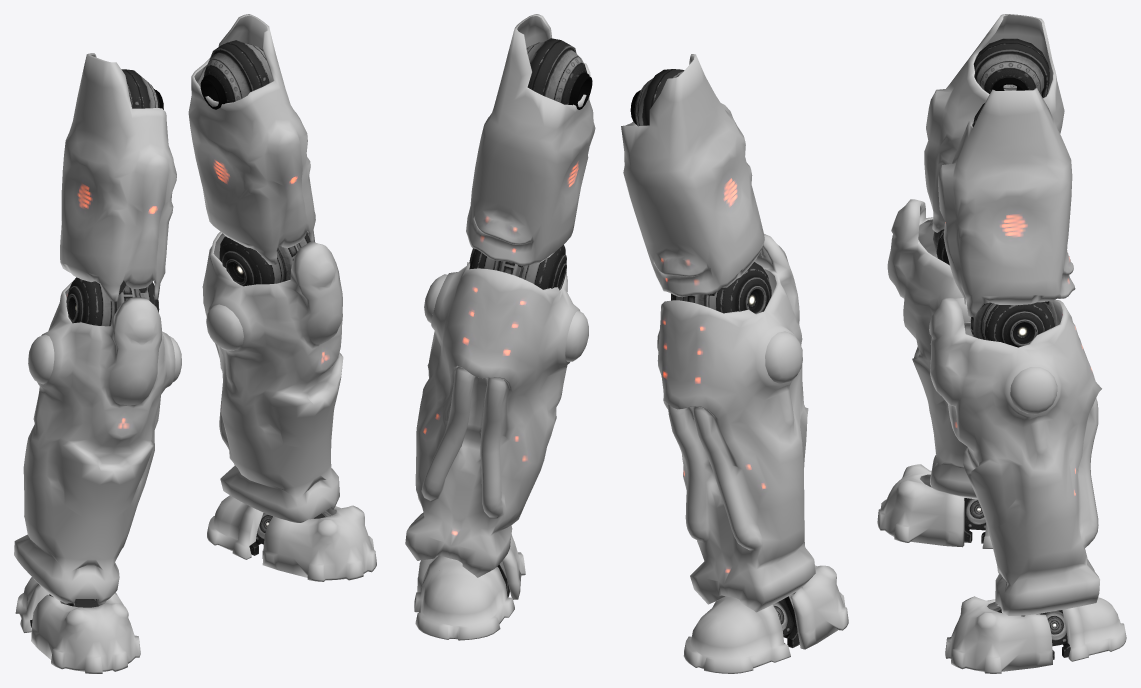
File: legsDSE.gltf
3 views of the same model, side by side, from view 1: azimuth 30°, elevation 25°; view 2: azimuth 150°, elevation 25°; view 3: azimuth 270°, elevation 25° (orthographic). The views are drawn at different scales.
Parts seen in each view (by area): view 1: MP_DS_Legs, MP_DS_Frame_Legs; view 2: MP_DS_Legs, MP_DS_Frame_Legs; view 3: MP_DS_Legs, MP_DS_Frame_Legs.
Part boxes in pixels (x1,y1,x2,y2): MP_DS_Legs: [14, 14, 376, 673]; MP_DS_Frame_Legs: [30, 40, 331, 627]; MP_DS_Legs: [405, 14, 848, 673]; MP_DS_Frame_Legs: [469, 38, 799, 647]; MP_DS_Legs: [877, 14, 1126, 673]; MP_DS_Frame_Legs: [928, 38, 1070, 659].
Bounding box in the file's own units: 1.08 × 1.6 × 0.673.
